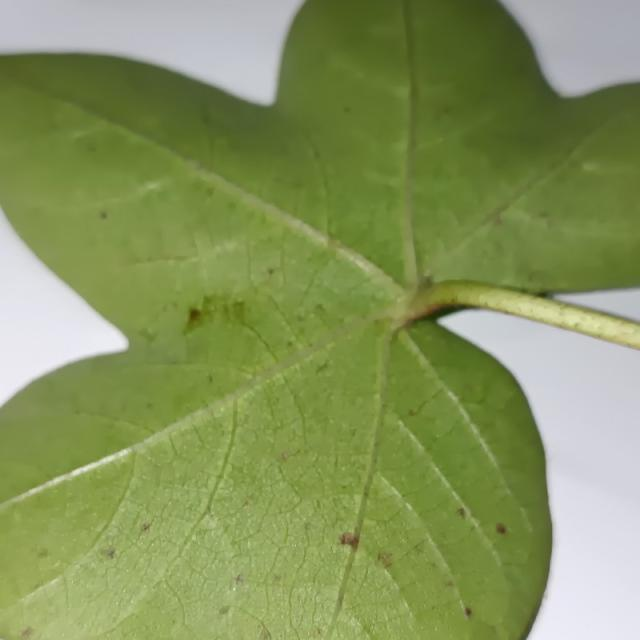Bacterial_Blight: (446, 496, 510, 616), (184, 298, 243, 335), (401, 270, 441, 311), (403, 301, 455, 326), (327, 530, 368, 555), (486, 207, 507, 228), (187, 307, 203, 325), (326, 235, 343, 250), (420, 273, 435, 289), (258, 622, 272, 639), (316, 359, 330, 374), (378, 552, 392, 566), (556, 305, 571, 317), (335, 592, 345, 609), (495, 522, 508, 535), (314, 302, 327, 315), (539, 210, 552, 223), (21, 626, 34, 638), (37, 549, 49, 559), (234, 573, 244, 584), (219, 605, 230, 615), (33, 581, 43, 592), (206, 505, 214, 518), (105, 549, 115, 559), (362, 487, 371, 498), (464, 607, 472, 619), (258, 633, 271, 640), (141, 523, 151, 532), (273, 574, 282, 584), (458, 507, 466, 518), (207, 373, 214, 385), (286, 339, 295, 348), (280, 451, 288, 461), (304, 520, 311, 531), (99, 210, 107, 219), (267, 267, 275, 275), (445, 580, 453, 588), (243, 501, 250, 510), (408, 409, 416, 416), (316, 628, 322, 636)
Cotton: (0, 0, 639, 639)
